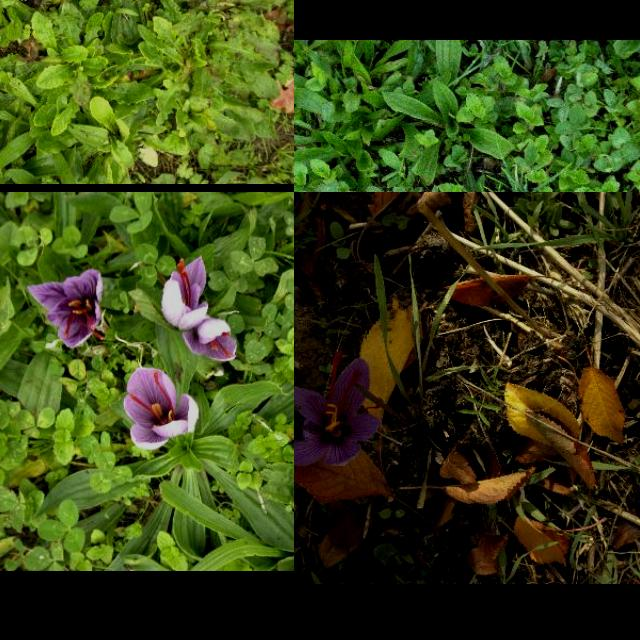flower: (294, 351, 382, 468), (124, 368, 200, 450), (27, 270, 104, 350), (162, 256, 208, 330), (182, 320, 238, 360)
